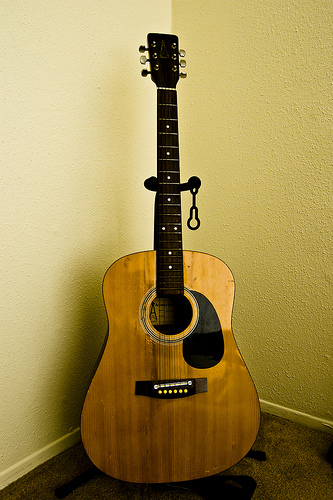guitar: (77, 33, 263, 484)
